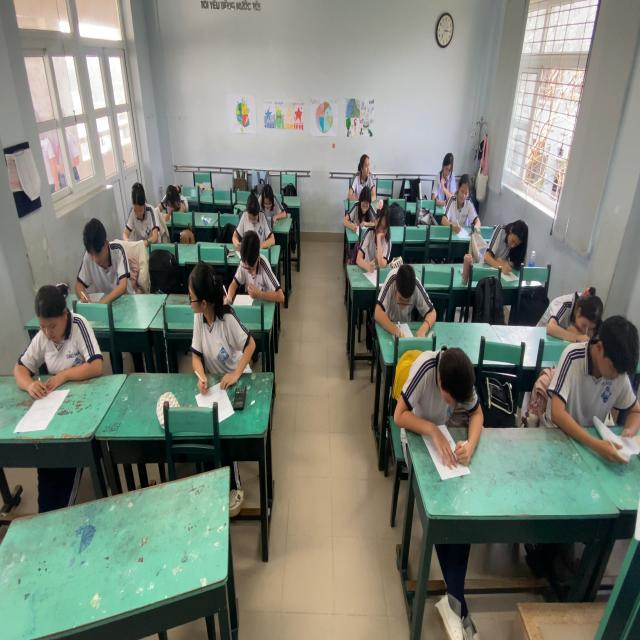cheating: (182, 262, 245, 379), (346, 151, 374, 200)
not_cheating: (556, 321, 638, 424), (22, 283, 92, 377), (403, 348, 473, 430), (72, 224, 131, 296), (379, 265, 428, 331), (537, 285, 601, 331), (236, 230, 280, 296), (488, 210, 525, 276), (122, 179, 156, 237), (428, 155, 465, 200), (448, 179, 478, 227), (370, 206, 391, 268), (160, 179, 187, 223), (241, 190, 268, 234), (257, 183, 286, 216), (356, 186, 372, 223)
